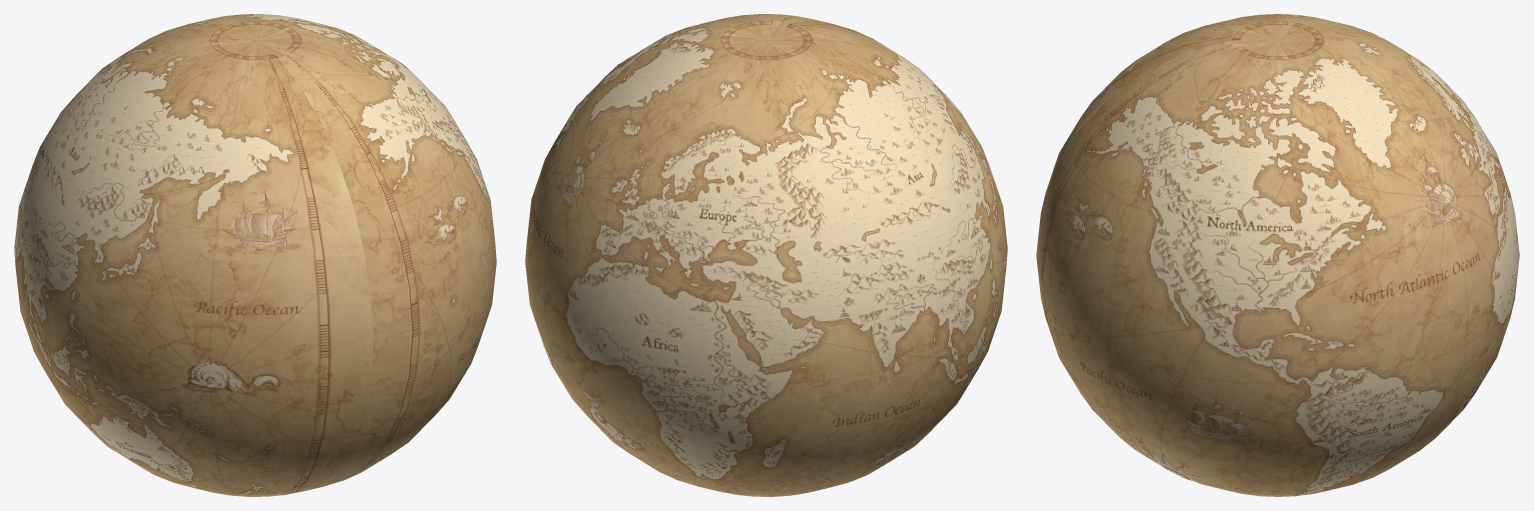
File: globe.fbx
3 renders of one model, left to right at view 1: azimuth 30°, elevation 25°; view 2: azimuth 150°, elevation 25°; view 3: azimuth 270°, elevation 25°, orthographic.
Visible parts, largest first — view 1: Sphere; view 2: Sphere; view 3: Sphere.
Boxes of the visible parts, x1=… form: Sphere: x1=14, y1=14, x2=496, y2=496; Sphere: x1=525, y1=14, x2=1007, y2=496; Sphere: x1=1036, y1=14, x2=1519, y2=496.
Bounding box in the file's own units: 200 × 196 × 200.
1 material, 1 textured.
